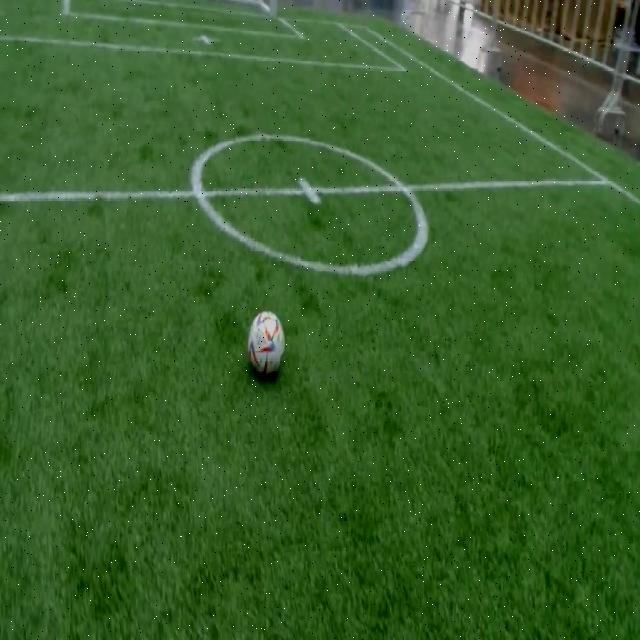ball: (250, 312, 285, 378)
